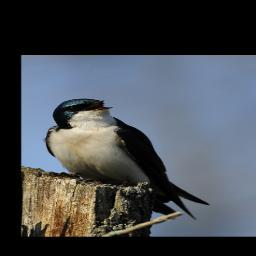Swallow: (45, 98, 211, 221)
